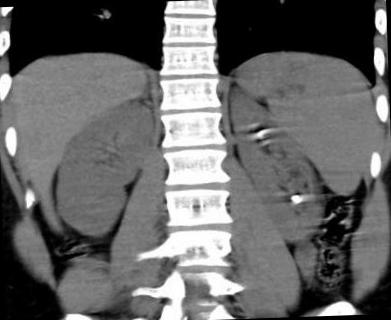Tas_Var: (291, 193, 299, 200), (294, 199, 302, 204)
